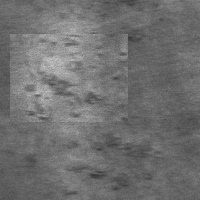rolled-in_scale: (10, 34, 128, 122), (81, 12, 140, 103), (62, 134, 151, 186)
